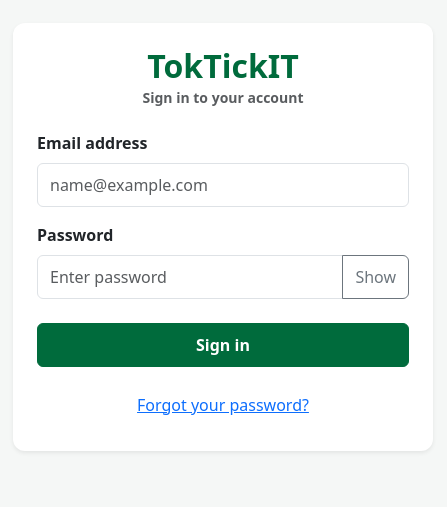
Scenario: Login Component (UI-01) › 2. Inline error banner on failed login (BR-07) › displays fallback error banner on unexpected network error
Type "test@example.com" into the field with placeholder "name@example.com" at (223, 185), box [37,163,409,207]
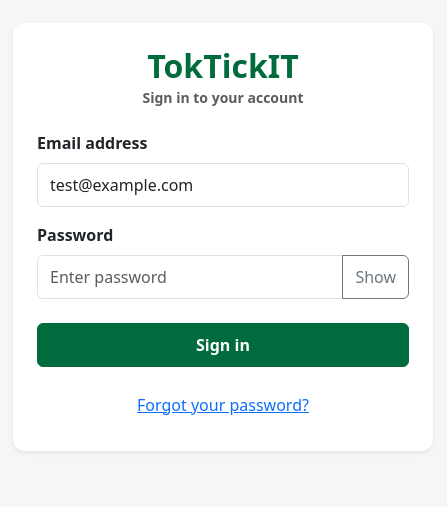
Type "password" into the password field with placeholder "Enter password" at (190, 277), box [37,255,343,299]
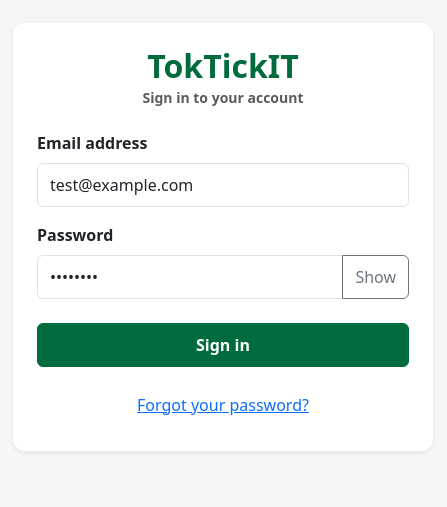
Click the button "Sign in" at (223, 345), box [37,323,409,367]
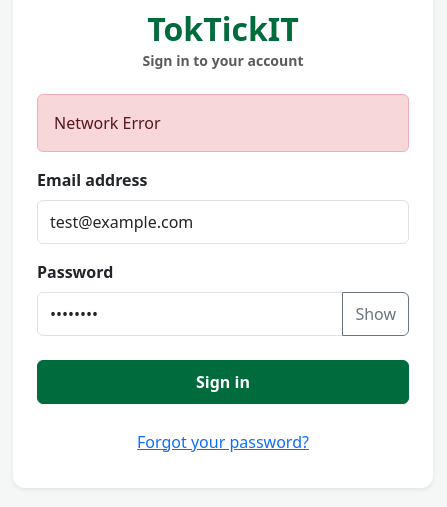
expect the message reads "Network Error": met, box [54,112,161,134]
